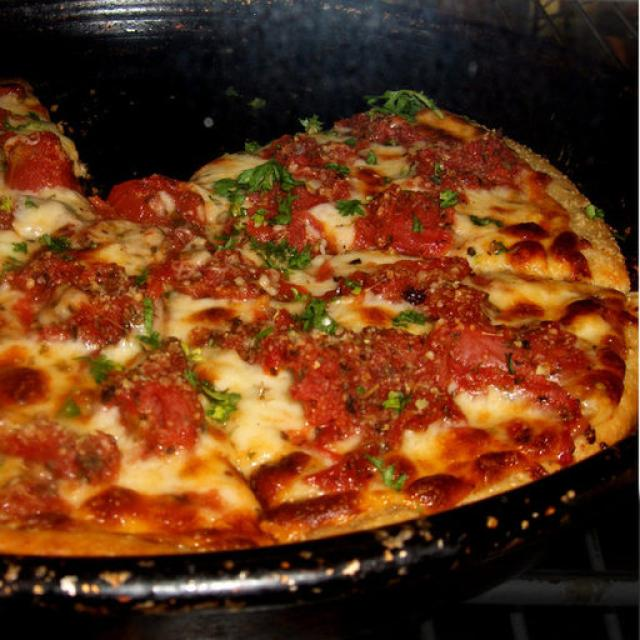Basil: (210, 166, 308, 203), (252, 231, 319, 273), (346, 452, 413, 490), (82, 353, 118, 388)
Cheese: (480, 200, 582, 311), (208, 348, 300, 467)
Pizza: (0, 82, 638, 561)
Tomato: (284, 317, 529, 427), (374, 174, 465, 261), (2, 114, 69, 191), (113, 173, 186, 236)
